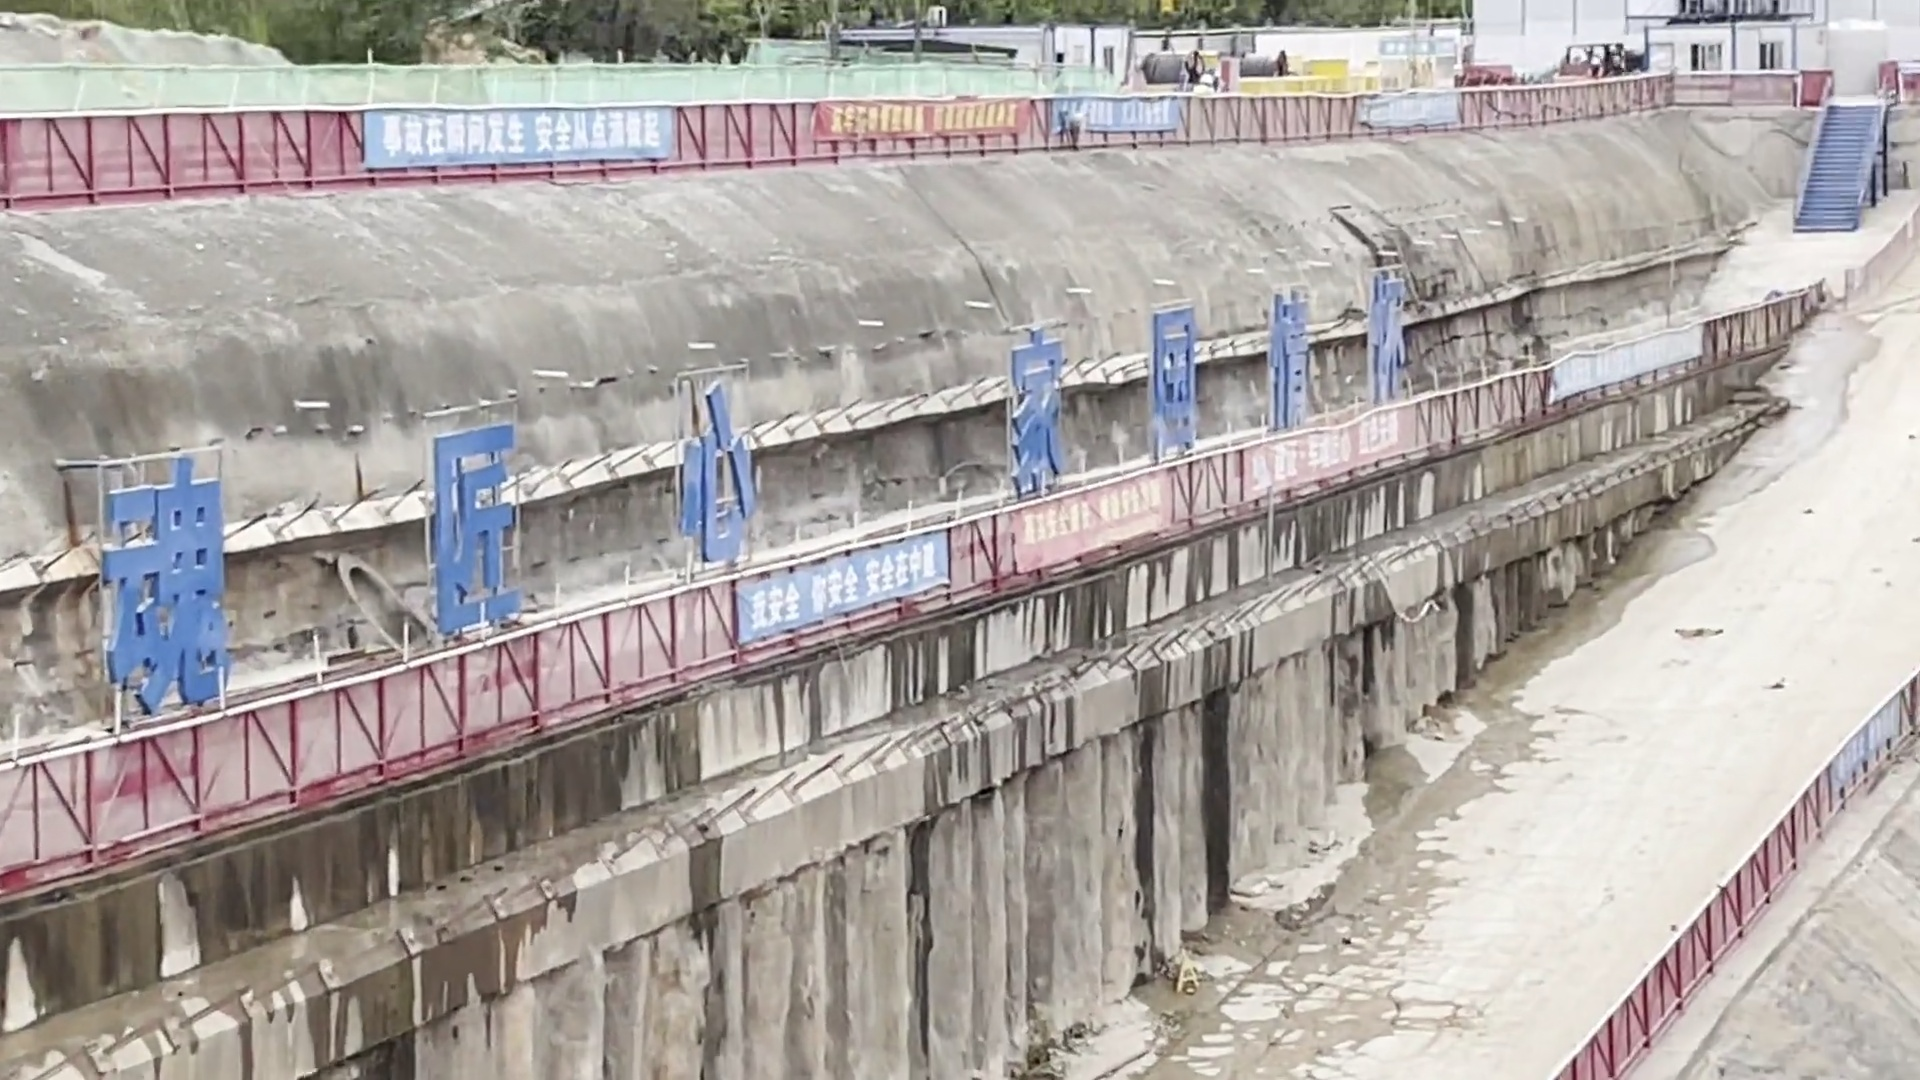fence: (21, 280, 1785, 858), (7, 18, 1836, 214), (1538, 645, 1919, 1080)
slogan: (368, 87, 670, 181), (737, 554, 963, 622), (1236, 415, 1429, 488), (1538, 332, 1717, 400), (816, 100, 1027, 154), (1015, 489, 1185, 553), (1817, 694, 1920, 781), (1357, 84, 1495, 145), (1046, 82, 1168, 142)
